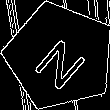N_NE: (27, 24, 92, 89)
